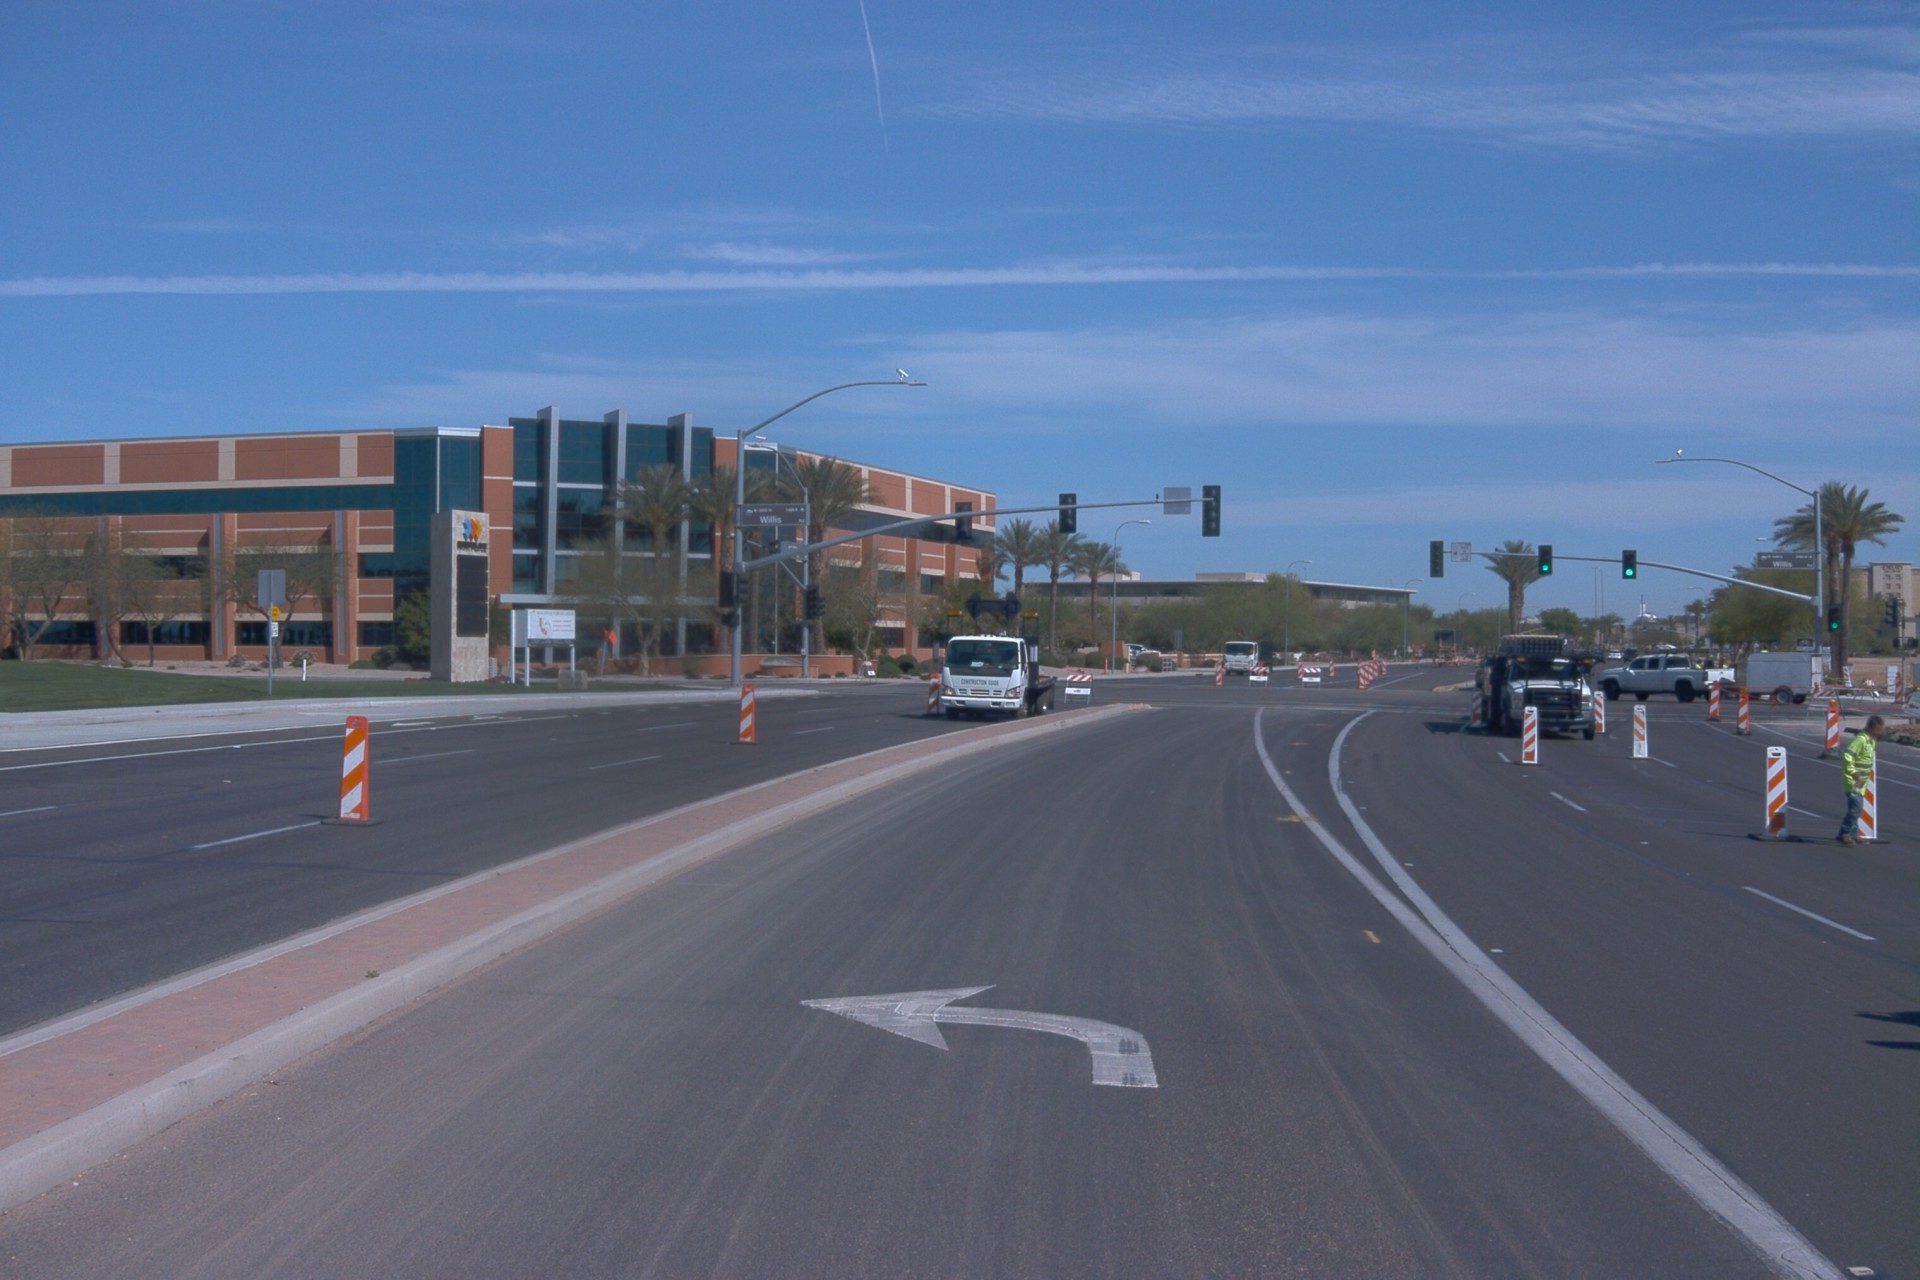TYPE_PEDESTRIAN: (1834, 714, 1884, 847)
TYPE_VEHICLE: (1477, 630, 1603, 743), (934, 629, 1065, 729), (1596, 644, 1738, 709), (1741, 644, 1830, 711), (1220, 637, 1276, 678), (1123, 642, 1162, 666), (1473, 662, 1489, 690), (1621, 647, 1643, 666), (1590, 649, 1609, 665), (1606, 648, 1624, 663)
